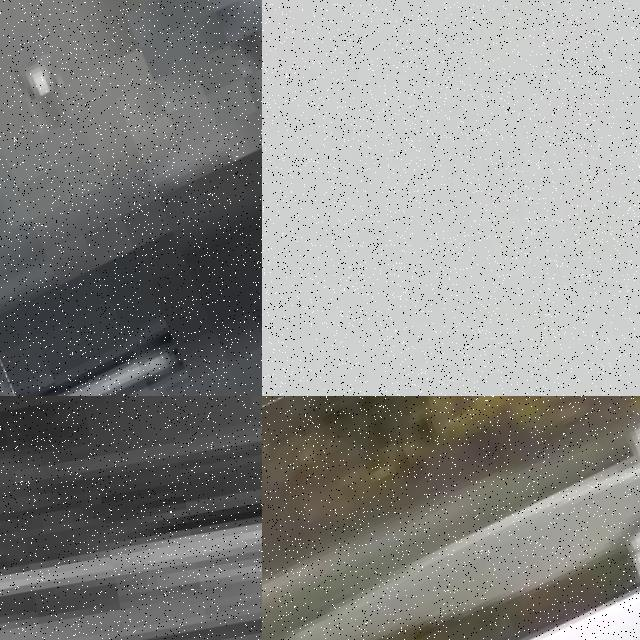0: (0, 0, 262, 396)
drone: (262, 396, 640, 640)
